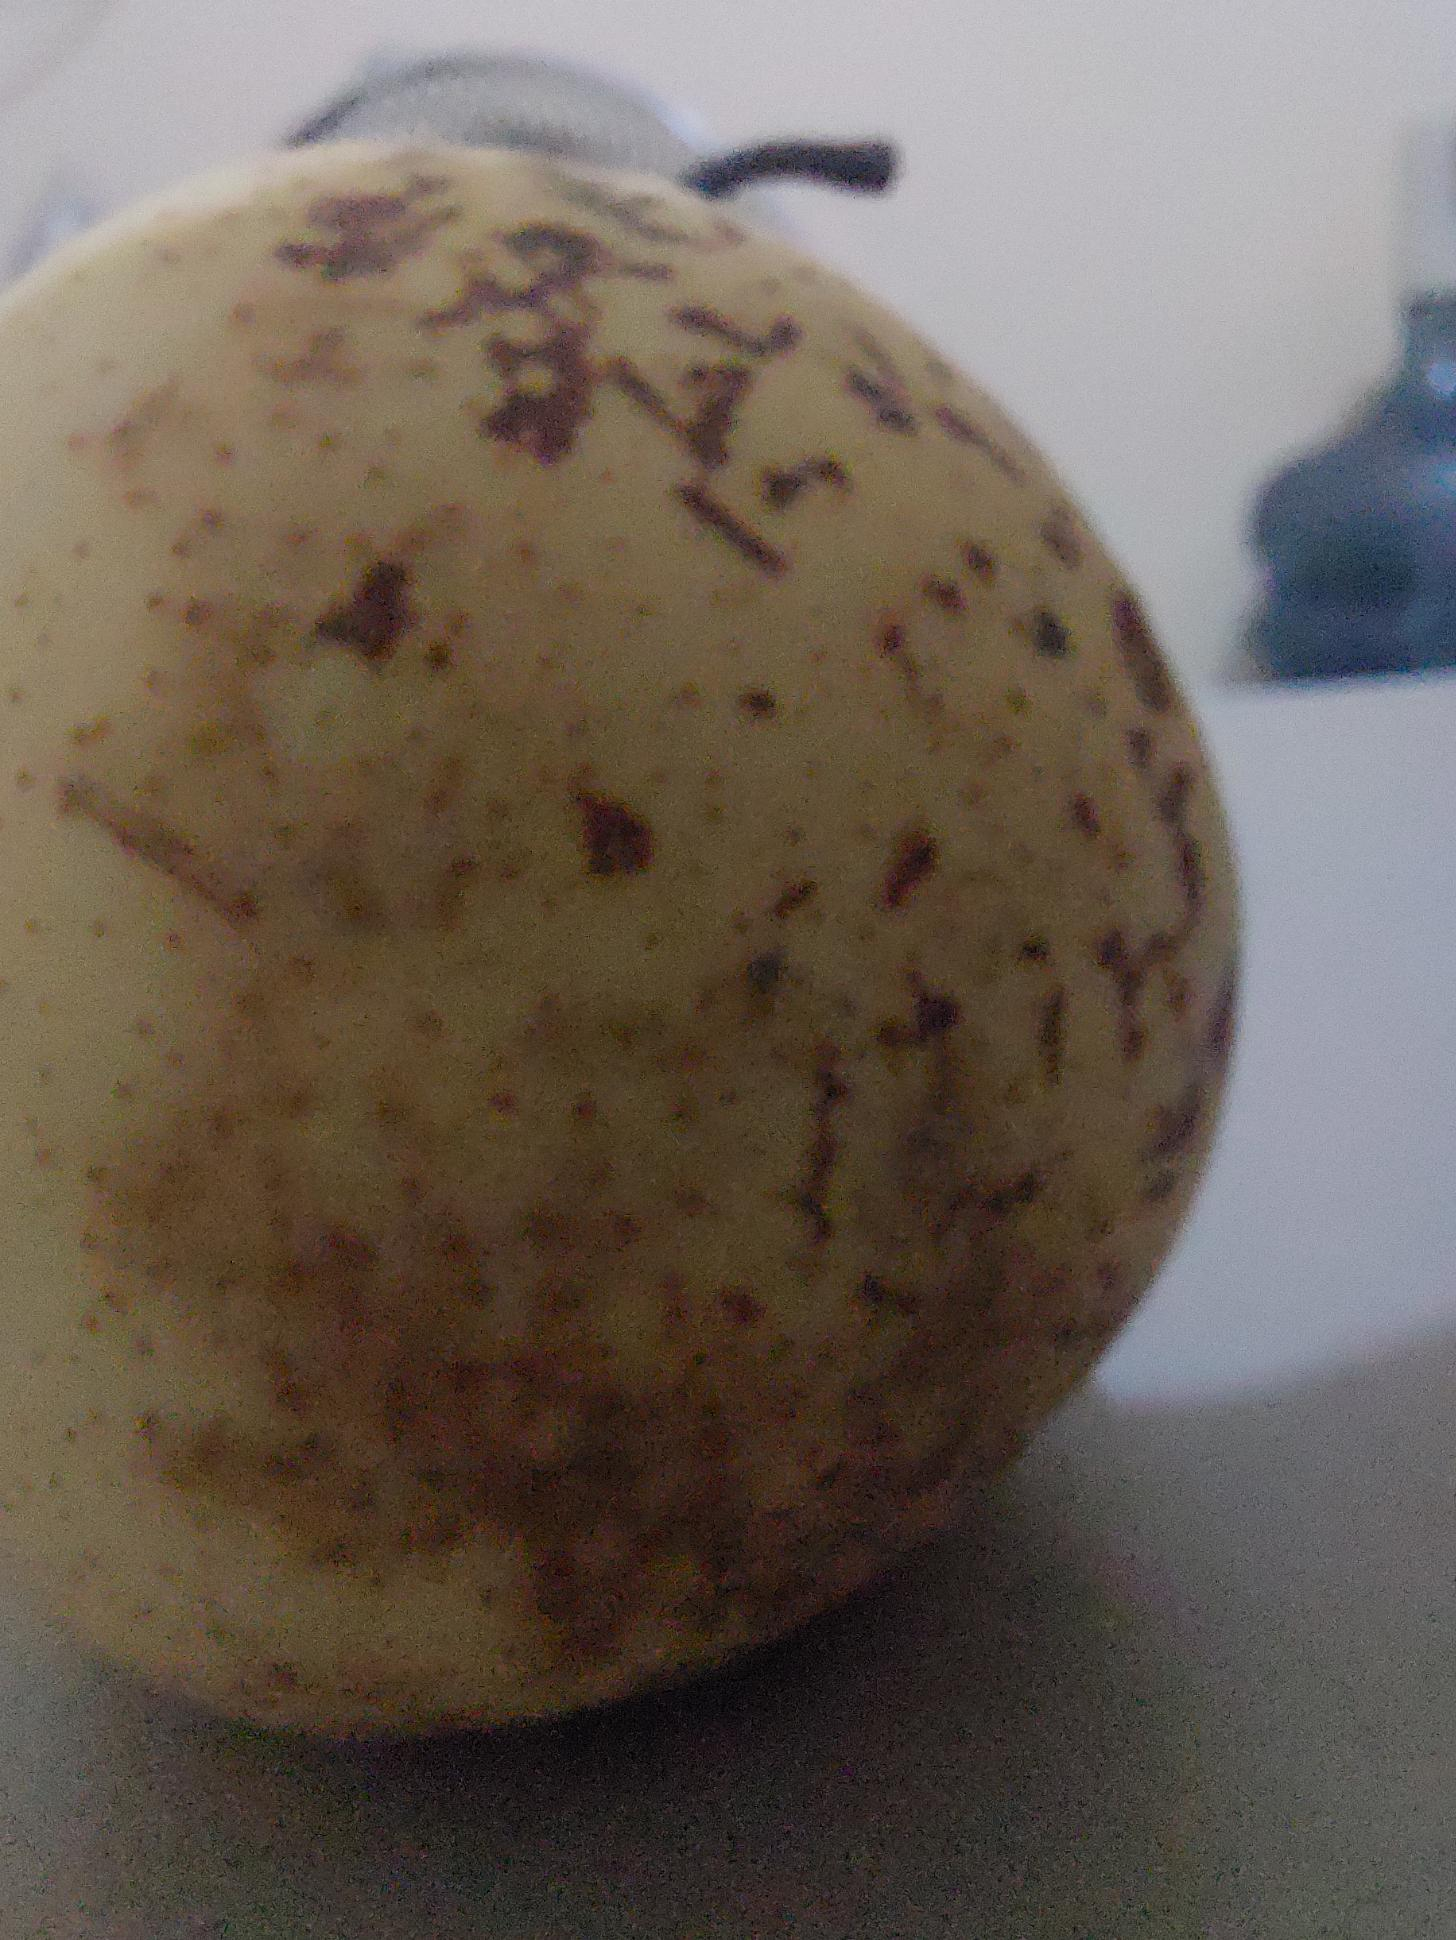Bad Pear: (0, 130, 1254, 1767)
